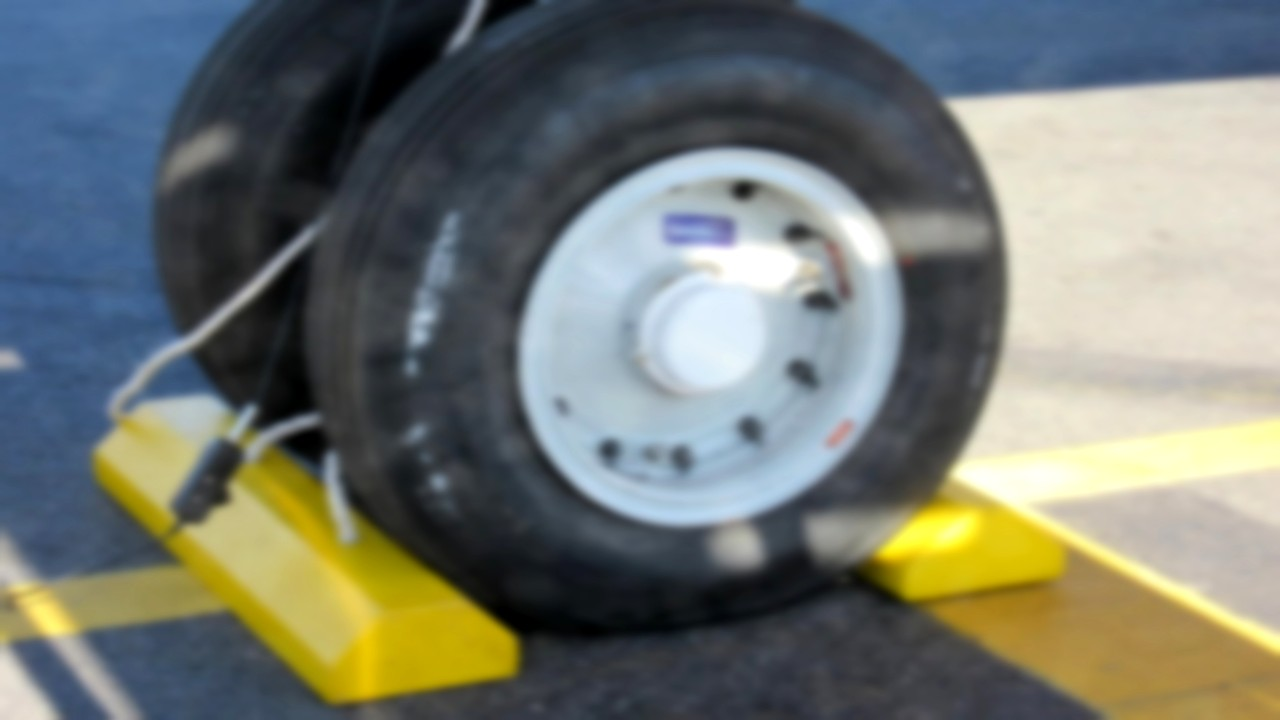chock: (84, 364, 524, 714), (708, 342, 1069, 605)
wheel: (288, 0, 1031, 636), (138, 0, 566, 443)
